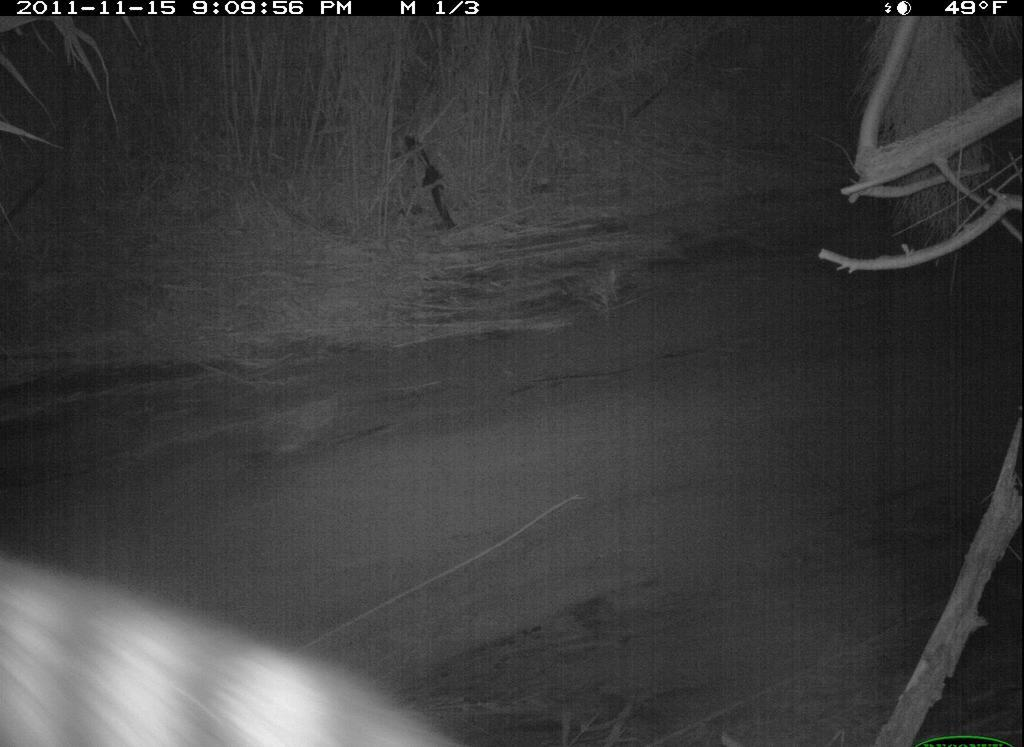raccoon: (2, 551, 488, 747)
